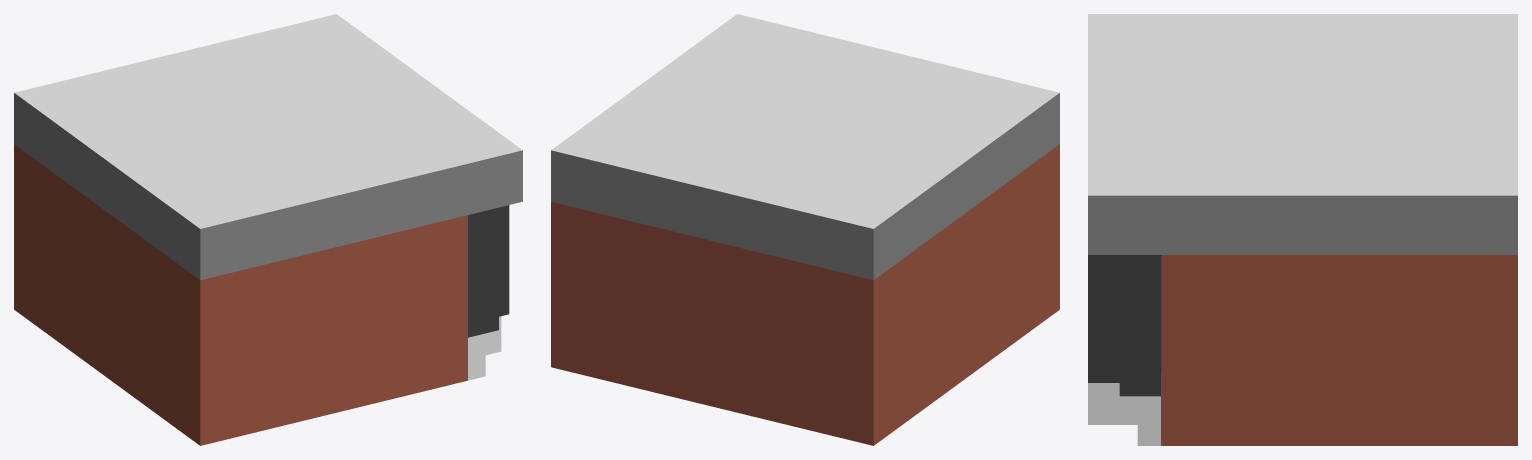
Rendered from pickup_corner_in.fbx.
3 renders of one model, left to right at view 1: azimuth 30°, elevation 25°; view 2: azimuth 150°, elevation 25°; view 3: azimuth 270°, elevation 25°, orthographic. The views are drawn at different scales.
Parts seen in each view (by area): view 1: Cube.133; view 2: Cube.133; view 3: Cube.133.
Boxes of the visible parts, <box> form: Cube.133: <box>14,14,522,445</box>; Cube.133: <box>551,14,1059,445</box>; Cube.133: <box>1088,14,1517,445</box>.
Size of the model in its own units: 100 by 100 by 64.26.
